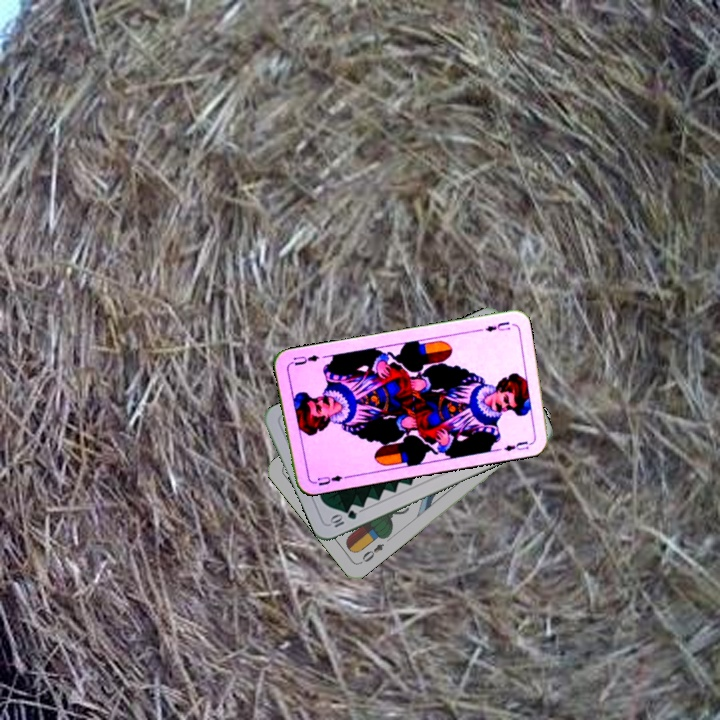EO: (356, 539, 387, 566)
EU: (313, 471, 345, 488), (481, 318, 513, 334)
G10: (326, 506, 359, 530)
